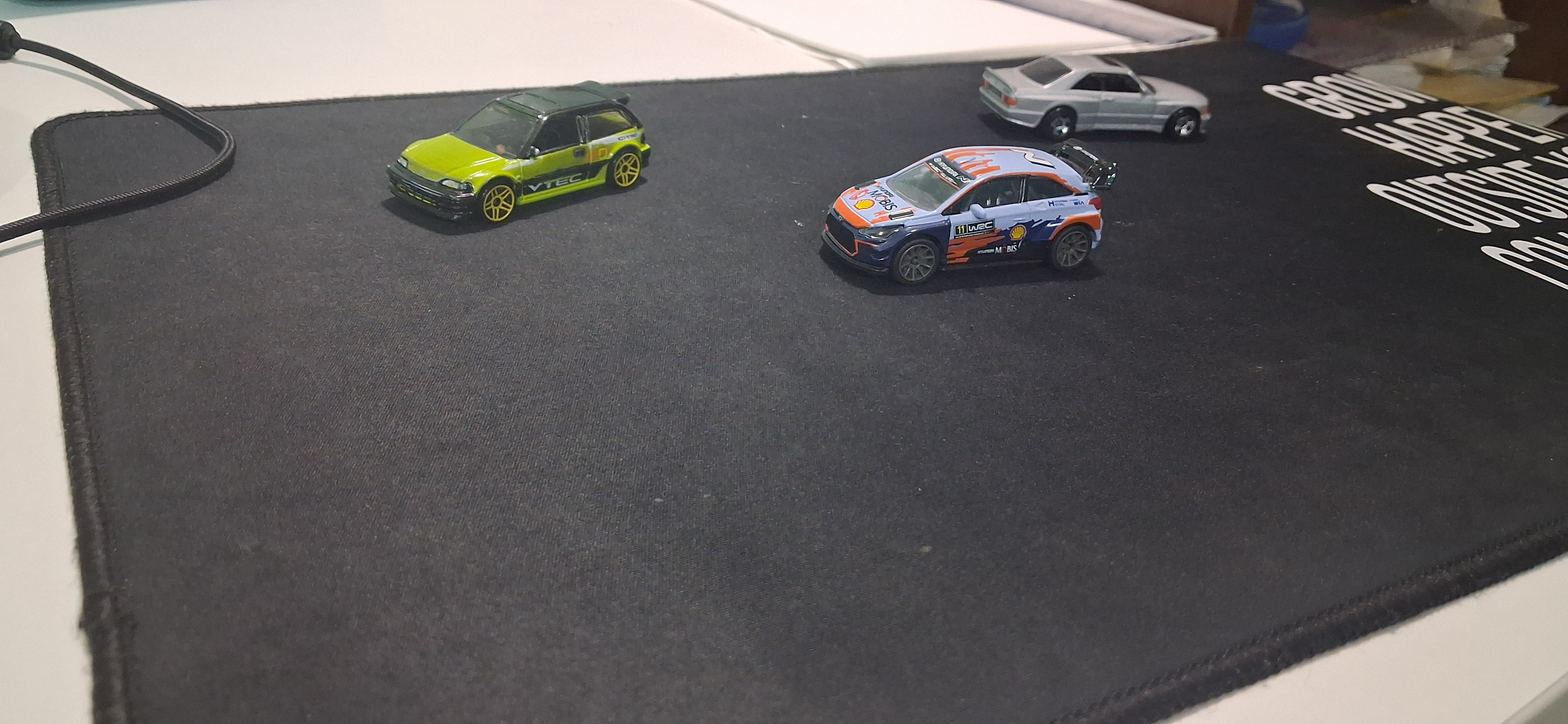Honda_Civic: (370, 41, 668, 246)
Hyundai_I20_WRC: (761, 130, 1140, 303)
Mercedes_Benz_560_SEC_AMG: (944, 44, 1240, 164)
